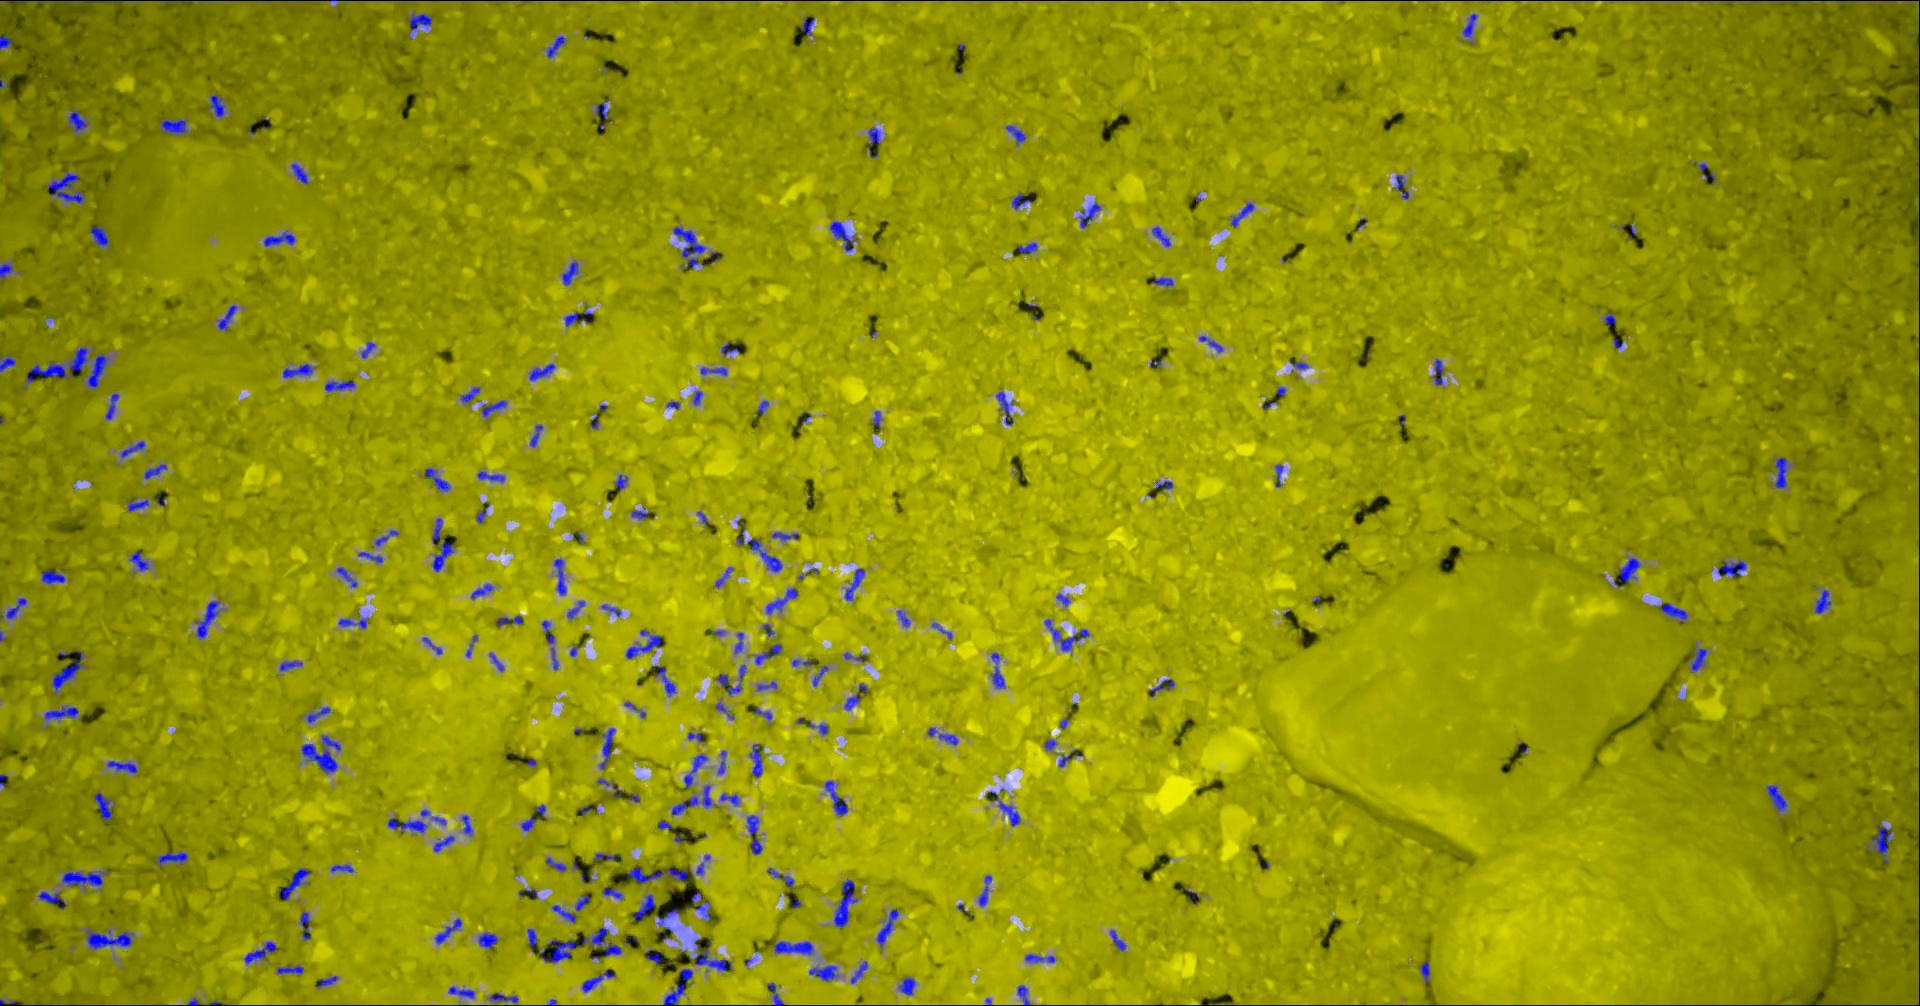ant: (27, 345, 89, 382), (674, 226, 723, 268), (302, 734, 342, 774), (1046, 619, 1090, 652), (53, 650, 85, 694), (582, 927, 623, 956), (433, 518, 456, 572), (673, 784, 712, 814), (748, 539, 783, 572), (50, 171, 86, 203), (836, 879, 858, 927), (990, 791, 1022, 826), (665, 968, 695, 1005), (279, 868, 312, 899), (627, 629, 663, 658), (690, 948, 733, 970), (63, 869, 113, 888), (88, 929, 133, 949), (197, 600, 221, 638), (717, 664, 748, 694), (877, 908, 900, 946), (825, 780, 850, 815), (767, 587, 799, 614), (540, 939, 577, 962), (543, 620, 560, 669), (684, 754, 709, 788), (583, 968, 616, 992), (1872, 826, 1893, 862), (88, 353, 110, 387), (830, 221, 856, 251), (1615, 558, 1642, 586), (599, 727, 617, 768), (245, 941, 277, 964), (436, 918, 463, 942), (654, 666, 677, 695), (659, 908, 681, 939), (846, 568, 866, 600), (523, 804, 547, 831), (566, 305, 596, 326), (425, 467, 451, 492), (748, 814, 763, 854), (389, 817, 428, 832), (997, 391, 1015, 424), (1081, 202, 1103, 227), (627, 866, 665, 882), (1, 597, 28, 619), (768, 868, 795, 889), (756, 644, 783, 664), (692, 892, 712, 920), (992, 652, 1007, 688), (95, 791, 114, 821), (1232, 202, 1255, 226), (635, 894, 657, 920), (218, 304, 239, 330), (1661, 602, 1689, 621), (1768, 785, 1788, 810), (775, 941, 815, 954), (265, 230, 296, 246), (555, 558, 568, 594), (750, 743, 764, 776), (531, 363, 556, 381), (483, 399, 508, 417), (810, 965, 839, 981), (39, 890, 66, 907), (69, 109, 89, 131), (46, 706, 80, 719), (563, 260, 580, 285), (122, 439, 146, 457), (1152, 678, 1176, 696), (552, 904, 577, 922), (284, 363, 315, 377), (1719, 560, 1747, 575), (108, 760, 138, 774), (979, 875, 993, 906), (667, 868, 692, 884), (338, 567, 358, 587), (411, 11, 433, 30), (549, 36, 568, 57), (131, 549, 150, 570), (163, 118, 189, 133), (599, 779, 622, 796), (1200, 335, 1224, 352), (376, 528, 400, 545), (1816, 589, 1832, 614), (1691, 648, 1708, 672), (1007, 124, 1027, 144), (1153, 226, 1172, 246), (91, 226, 110, 246), (210, 94, 226, 117), (852, 960, 869, 983), (768, 982, 785, 1005), (107, 392, 121, 419), (1777, 457, 1789, 486), (157, 851, 189, 862), (292, 163, 310, 183), (1060, 749, 1082, 766), (1111, 929, 1128, 950), (1396, 174, 1410, 199), (309, 706, 331, 721), (568, 600, 585, 619), (450, 986, 476, 998), (1464, 13, 1478, 37), (717, 567, 734, 587), (814, 666, 830, 686), (436, 835, 456, 851), (326, 380, 356, 391), (472, 583, 494, 598), (145, 464, 168, 478), (1013, 193, 1032, 210), (900, 976, 917, 995), (479, 932, 499, 948), (43, 570, 67, 583), (498, 615, 524, 626), (490, 992, 519, 1002), (1700, 163, 1717, 180), (531, 424, 543, 447), (477, 500, 490, 523), (461, 387, 481, 401), (477, 471, 505, 481), (130, 497, 150, 511), (547, 857, 568, 871), (602, 603, 623, 616), (809, 721, 830, 734), (301, 912, 311, 939), (1026, 953, 1057, 962), (803, 17, 817, 36), (723, 340, 742, 354), (1156, 480, 1175, 494), (317, 976, 340, 987), (339, 619, 368, 627), (1435, 358, 1445, 384), (1018, 984, 1031, 1005), (1, 354, 17, 371), (648, 949, 663, 965), (362, 340, 376, 358), (359, 551, 383, 561), (721, 793, 740, 805), (604, 885, 623, 898), (773, 531, 800, 540), (278, 965, 305, 974), (281, 661, 303, 671), (846, 694, 861, 709), (577, 894, 592, 909), (1421, 960, 1431, 983), (869, 127, 883, 144), (1, 263, 15, 279), (597, 102, 610, 119), (940, 733, 959, 744), (719, 749, 728, 774), (331, 864, 356, 873), (616, 474, 629, 490), (898, 610, 910, 626), (463, 814, 474, 835), (632, 508, 650, 520), (596, 854, 622, 861), (702, 367, 728, 375), (1153, 277, 1175, 286), (737, 631, 745, 653), (530, 929, 538, 950), (1018, 243, 1039, 251), (758, 681, 778, 690), (1276, 464, 1284, 486), (1, 36, 13, 50), (1605, 312, 1617, 326), (39, 0, 124, 1)
